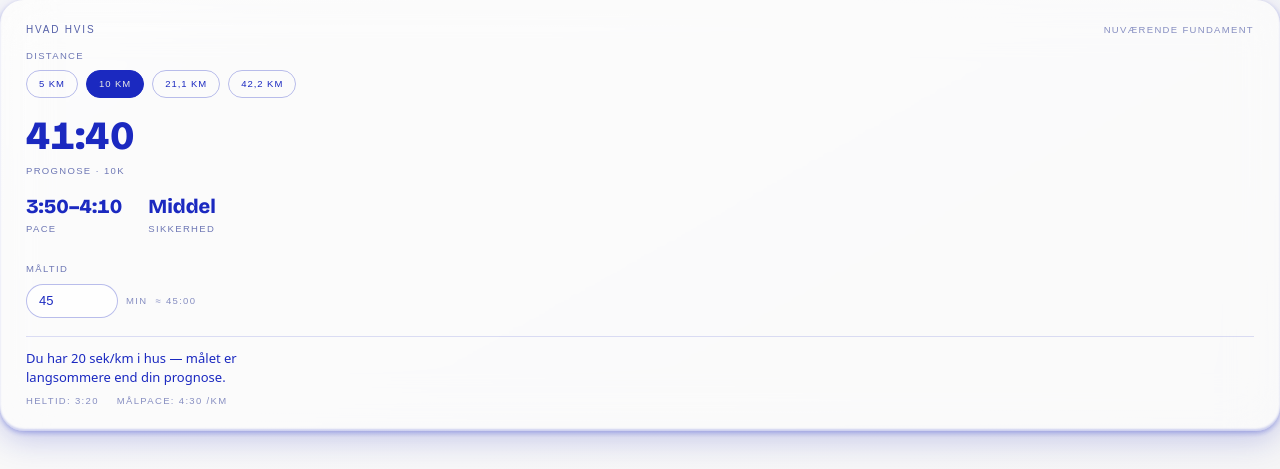
Test: WhatIfCard — distance choice › shows the lock instead of numbers for a distance the predictor cannot reach
The width and height of the screenshot is (1280, 469).
What coordinates should you click on to do the following:
click the button with aria-label "Marathon · 42,2 km"
I would click on:
 (262, 84)
Its box is [228,70,296,98].
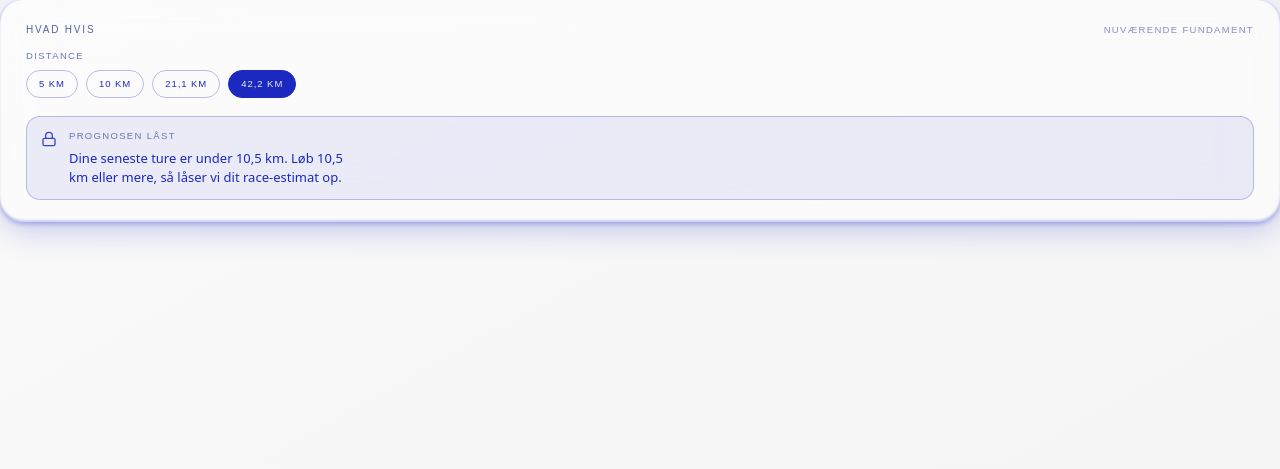
Expected: the element with test id "whatif-lock" shows "10,5 km", [69,149,343,186]
Expected: the text with test id "whatif-estimate" is gone
